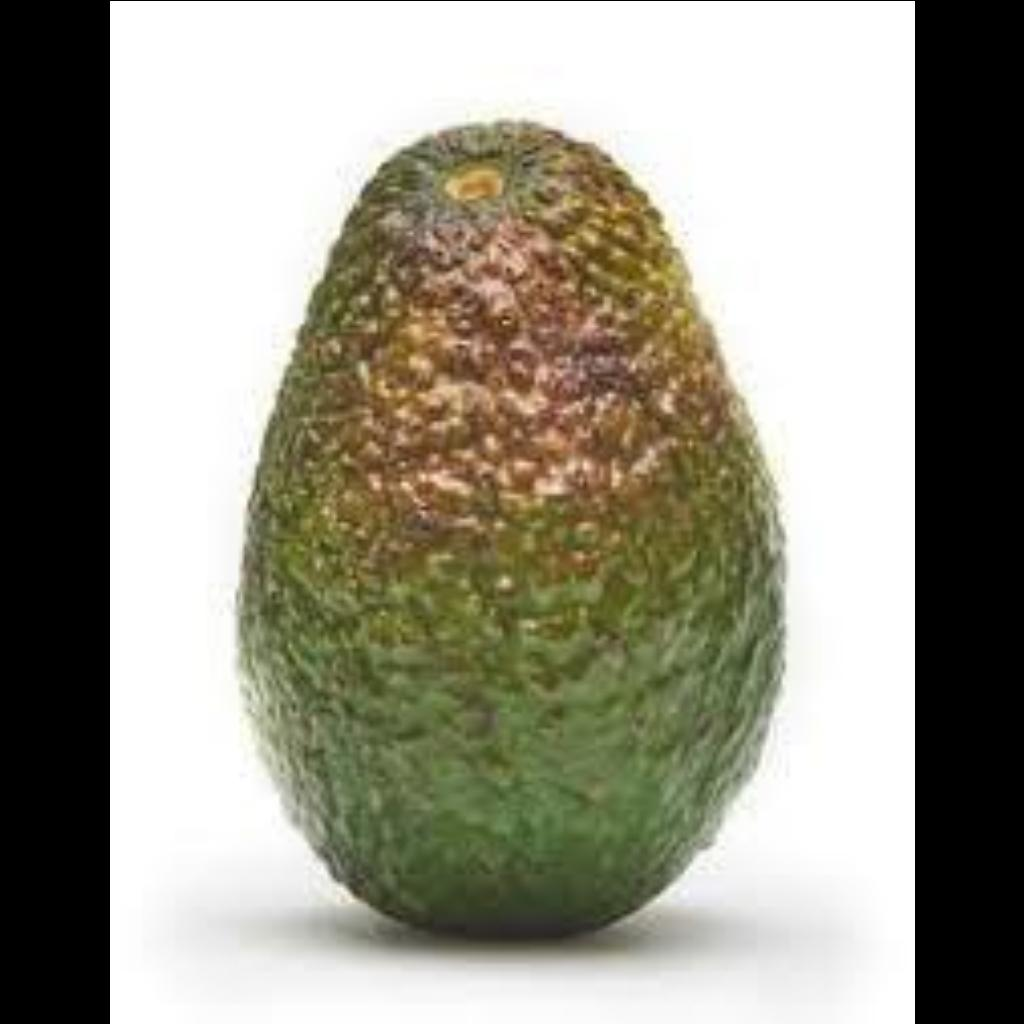antracnosis_fruto: (295, 194, 740, 628)
